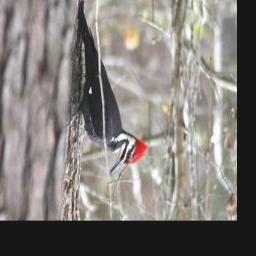Woodpecker: (66, 0, 151, 175)
